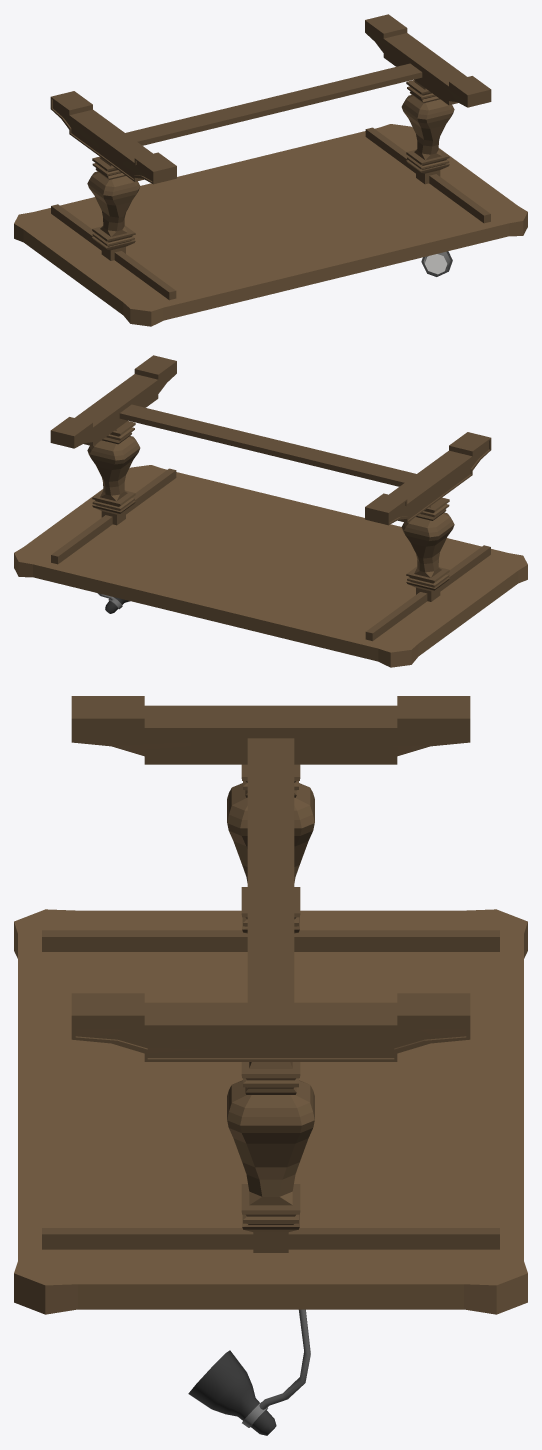
The model's file is cardbattler_table.fbx.
3 views of the same model, one above another, from view 1: azimuth 30°, elevation 25°; view 2: azimuth 150°, elevation 25°; view 3: azimuth 270°, elevation 25° (orthographic). The views are drawn at different scales.
Visible parts, largest first — view 1: Table2, Light_Desk; view 2: Table2; view 3: Table2, Light_Desk.
Part boxes in pixels (box(x1,y1,x2,y2)): Table2: box(14, 14, 527, 326); Light_Desk: box(421, 251, 452, 276); Table2: box(14, 355, 527, 667); Table2: box(14, 696, 527, 1314); Light_Desk: box(188, 1309, 310, 1435).
Size of the model in its own units: 17489 by 9238 by 10102.
